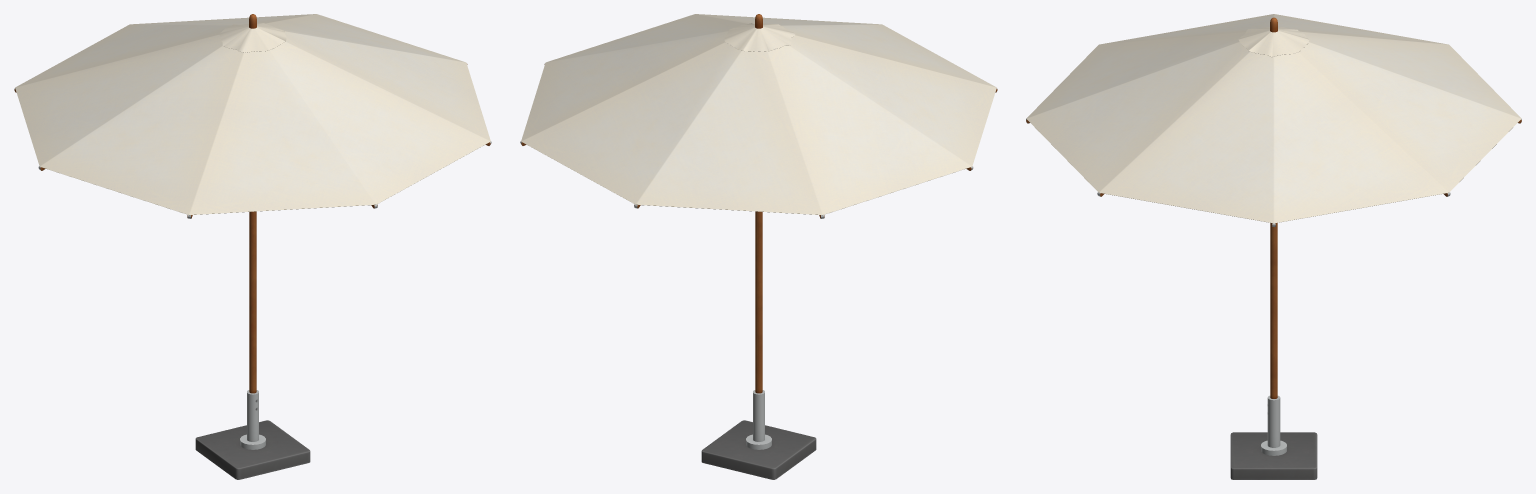
The model's file is GardenBambrella01.FBX.
3 views of the same model, side by side, from view 1: azimuth 30°, elevation 25°; view 2: azimuth 150°, elevation 25°; view 3: azimuth 270°, elevation 25° (orthographic).
Visible parts, largest first — view 1: GardenBambrella01; view 2: GardenBambrella01; view 3: GardenBambrella01.
Part boxes in pixels (left/top/right/bottom): GardenBambrella01: left=14, top=14, right=491, bottom=479; GardenBambrella01: left=520, top=14, right=997, bottom=479; GardenBambrella01: left=1026, top=14, right=1521, bottom=479.
Size of what is drawn, in the model's own units: 3 by 2.96 by 3.
